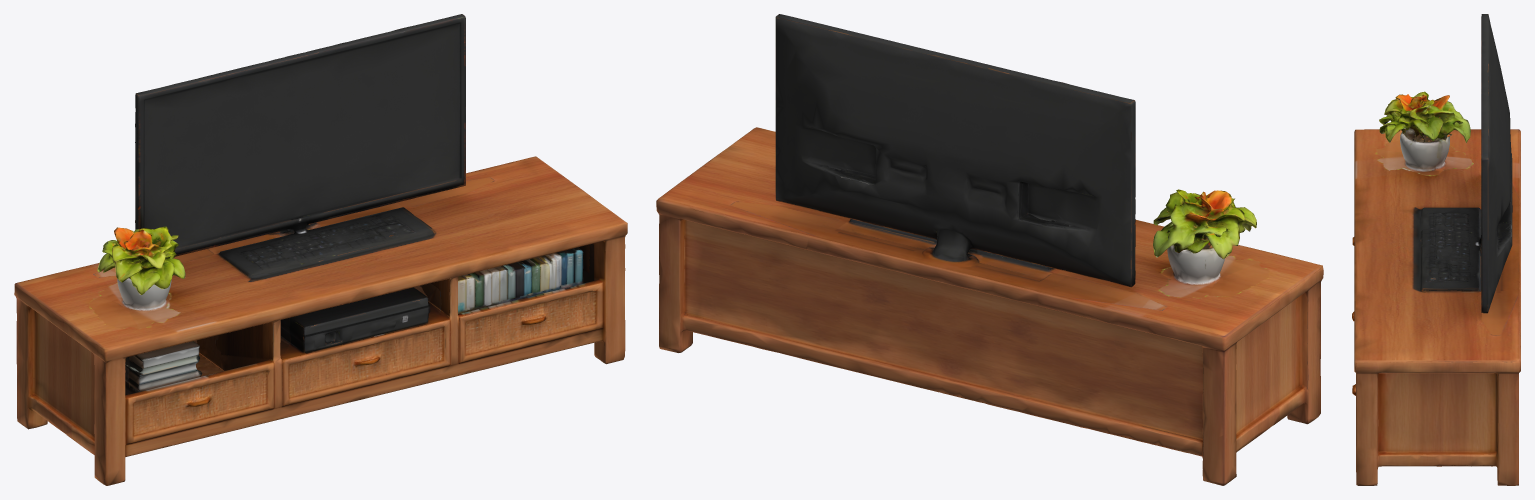
The picture shows the model from 3 angles, left to right: view 1: azimuth 30°, elevation 25°; view 2: azimuth 150°, elevation 25°; view 3: azimuth 270°, elevation 25°; orthographic projection. The views are drawn at different scales.
Visible parts, largest first — view 1: Mesh_0; view 2: Mesh_0; view 3: Mesh_0.
Part boxes in pixels (bbox=[...]): Mesh_0: bbox=[14, 14, 627, 485]; Mesh_0: bbox=[656, 14, 1323, 485]; Mesh_0: bbox=[1352, 14, 1520, 485].
Size of the model in its own units: 191 by 110 by 58.73.
Materials: 1 (1 with a texture image).
